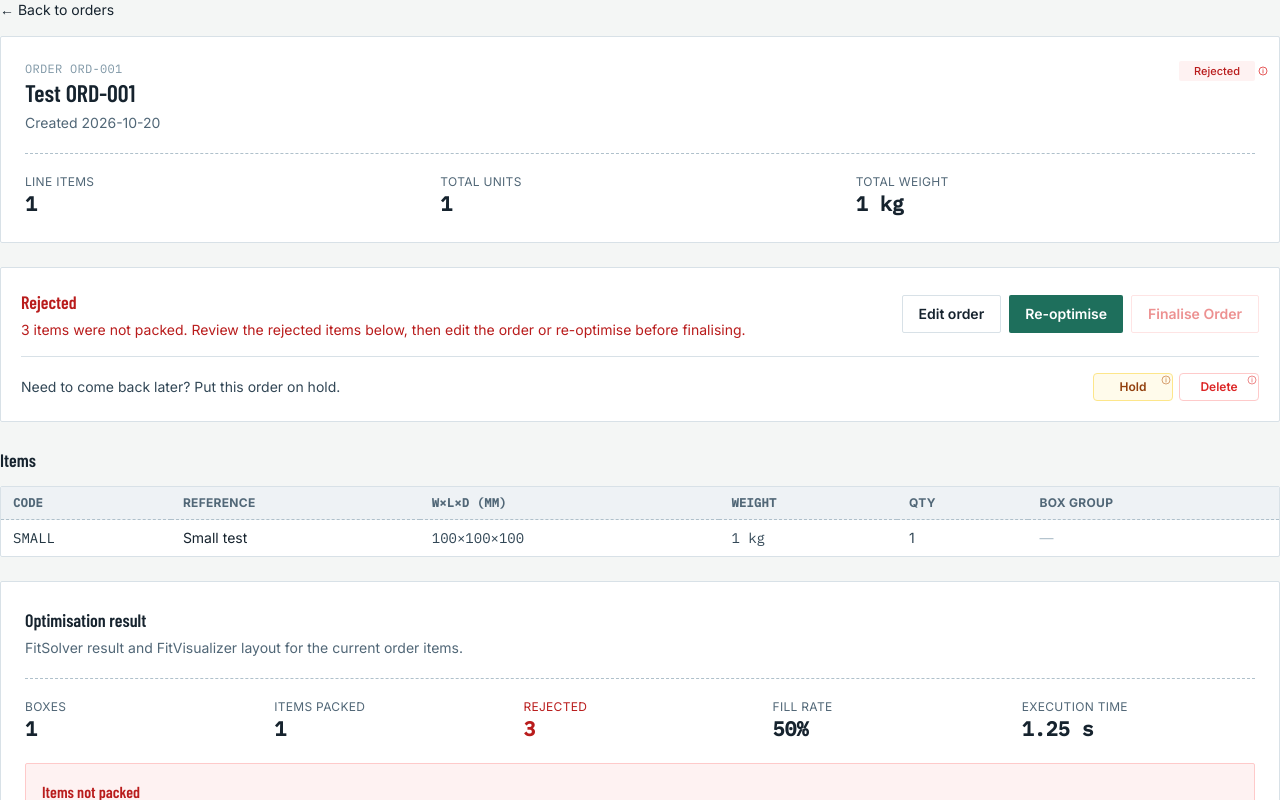
optimisation execution time › updates the execution time after re-optimisation
Step 1. Click the button "Re-optimise" → (1066, 314), box [1009, 295, 1123, 333]
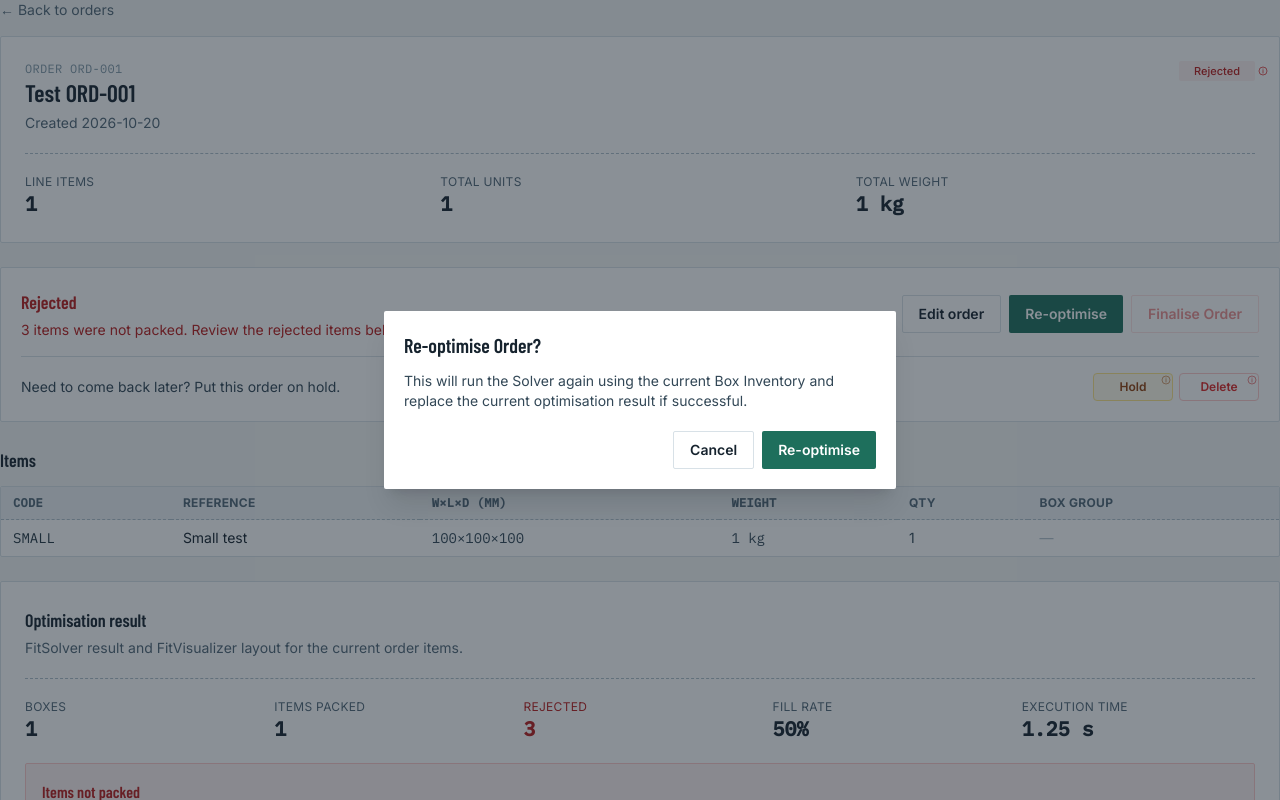
Step 2. Click the button "Re-optimise" → (819, 450), box [762, 431, 876, 469]
(page scrolled)
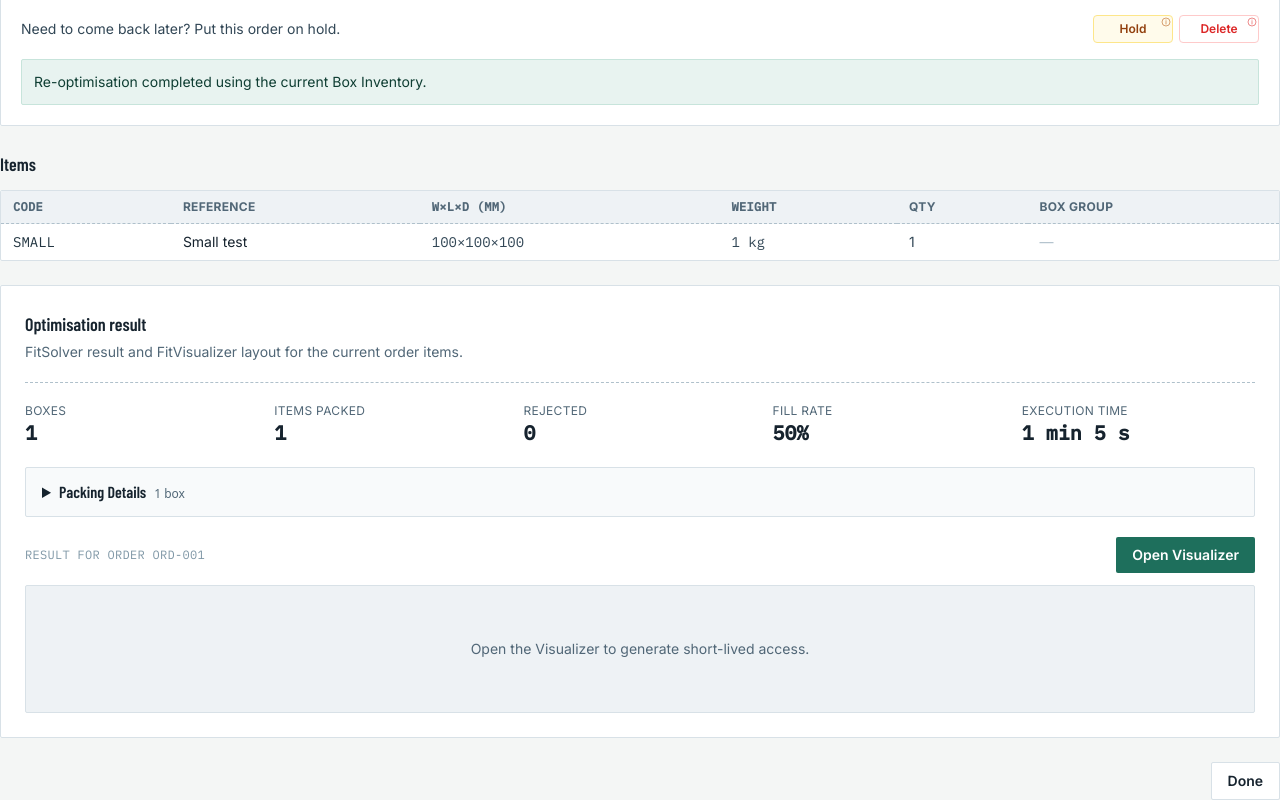
Expected: the text "1 min 5 s" is shown, [1022, 419, 1130, 446]
